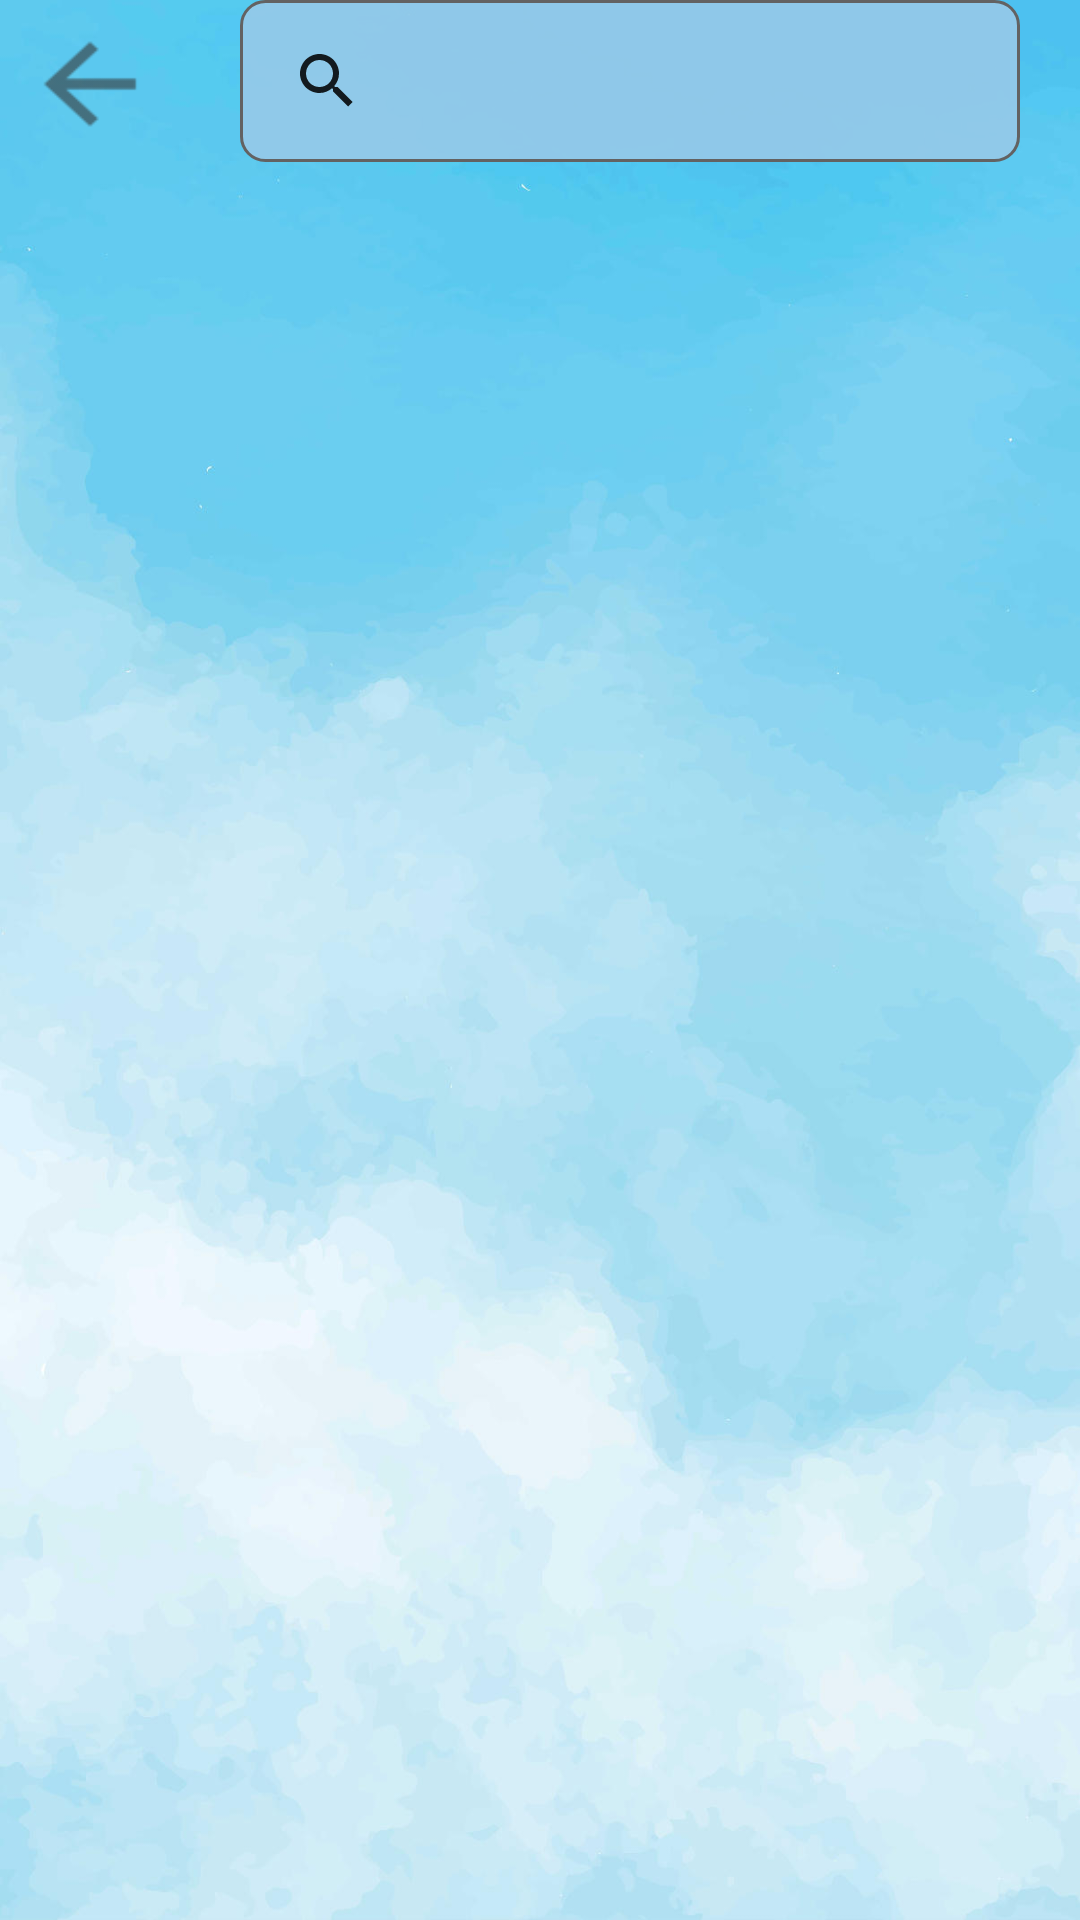

Icons on this 1080 × 1920 Android screen, each with the point to tap as point (x, y):
back: point (90, 84)
